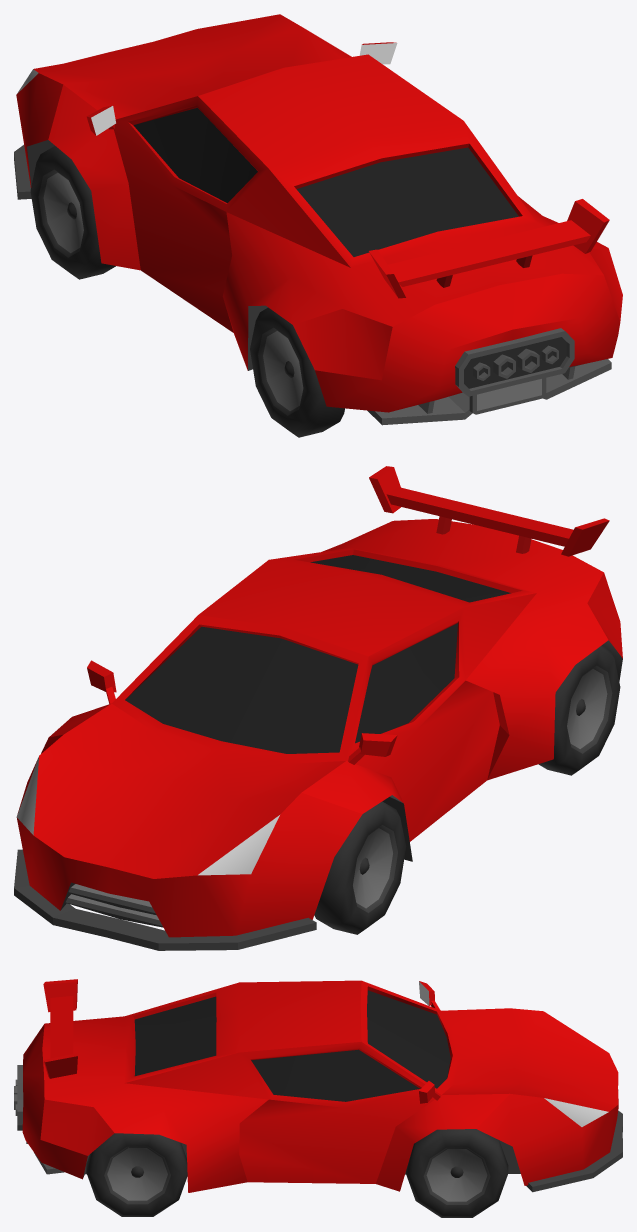
Rendered from lamb.obj.
3 renders of one model, top to bottom at view 1: azimuth 30°, elevation 25°; view 2: azimuth 150°, elevation 25°; view 3: azimuth 270°, elevation 25°, orthographic. The views are drawn at different scales.
Visible parts, largest first — view 1: lamb, wheels.056, wheels.057; view 2: lamb, wheels.057, wheels.056; view 3: lamb, wheels.001, wheels.
Boxes of the visible parts, x1=… form: lamb: x1=14, y1=14, x2=622, y2=425; wheels.056: x1=250, y1=307, x2=344, y2=437; wheels.057: x1=30, y1=146, x2=115, y2=279; lamb: x1=14, y1=466, x2=622, y2=950; wheels.057: x1=314, y1=801, x2=406, y2=934; wheels.056: x1=538, y1=645, x2=620, y2=775; lamb: x1=14, y1=979, x2=622, y2=1192; wheels.001: x1=406, y1=1129, x2=508, y2=1217; wheels: x1=86, y1=1133, x2=187, y2=1216.
Bounding box in the file's own units: 2.07 × 1.33 × 4.62.
3 materials, 2 textured.
